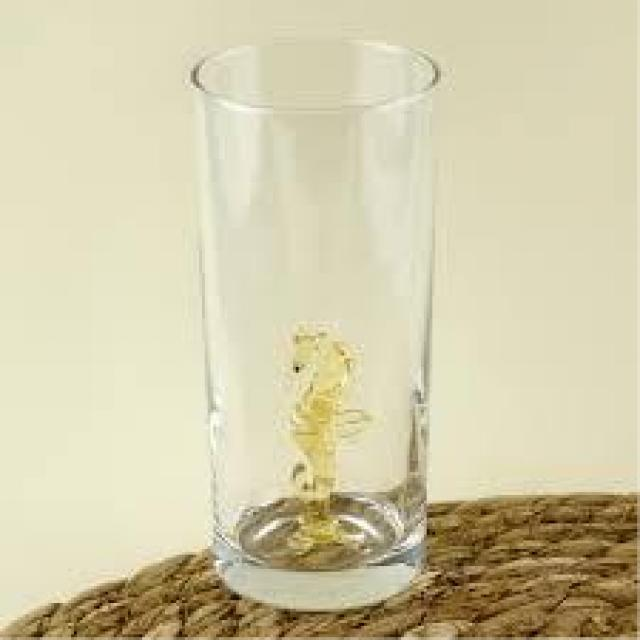non-organic waste: (188, 33, 441, 610)
